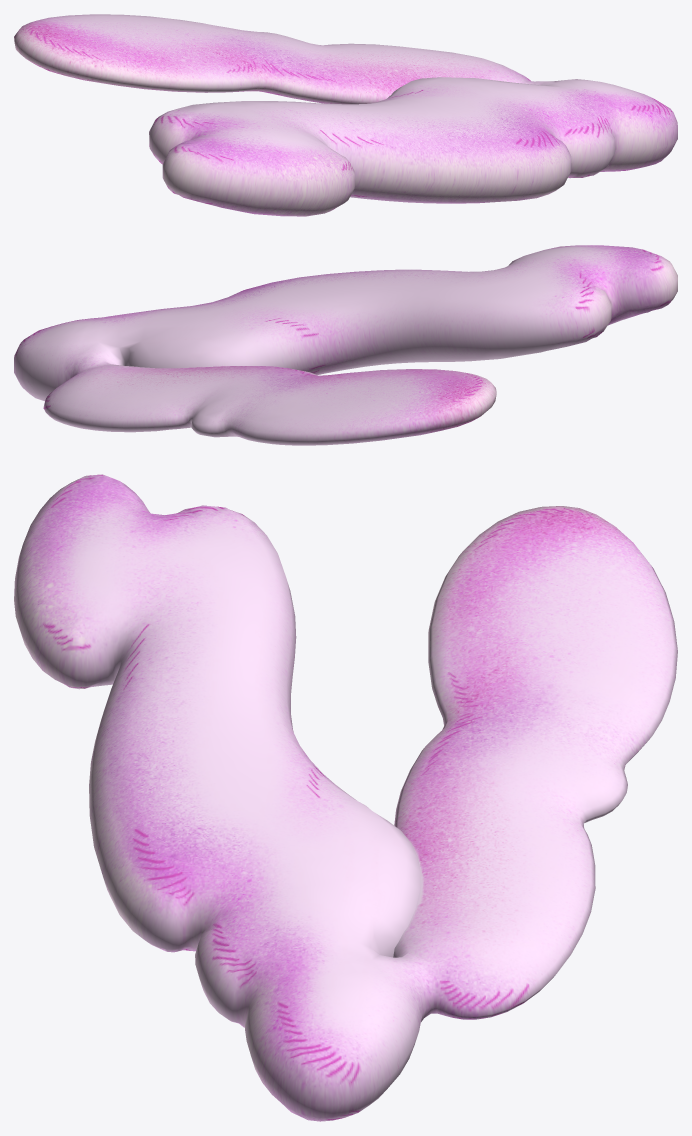
Rendered from Cloud_C.obj.
The picture shows the model from 3 angles, top to bottom: view 1: azimuth 30°, elevation 25°; view 2: azimuth 150°, elevation 25°; view 3: azimuth 270°, elevation 25°; orthographic projection. The views are drawn at different scales.
Parts seen in each view (by area): view 1: Cloud_C; view 2: Cloud_C; view 3: Cloud_C.
Part boxes in pixels (box(x1,y1,x2,y2)): Cloud_C: box(14, 14, 677, 216); Cloud_C: box(14, 245, 677, 445); Cloud_C: box(14, 474, 677, 1121).
Size of the model in its own units: 1.11 by 0.3663 by 0.7907.
1 material, 1 textured.
